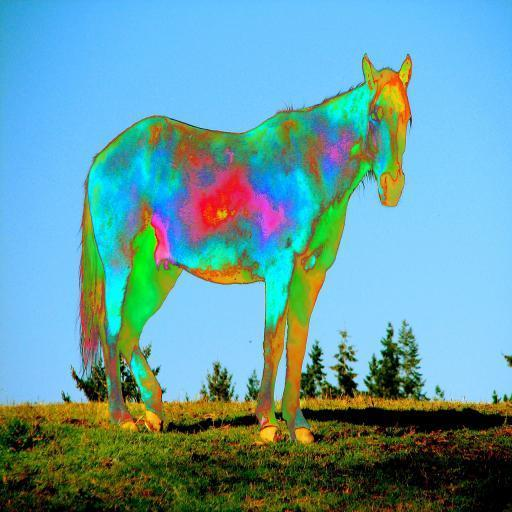horse: (81, 56, 419, 433)
